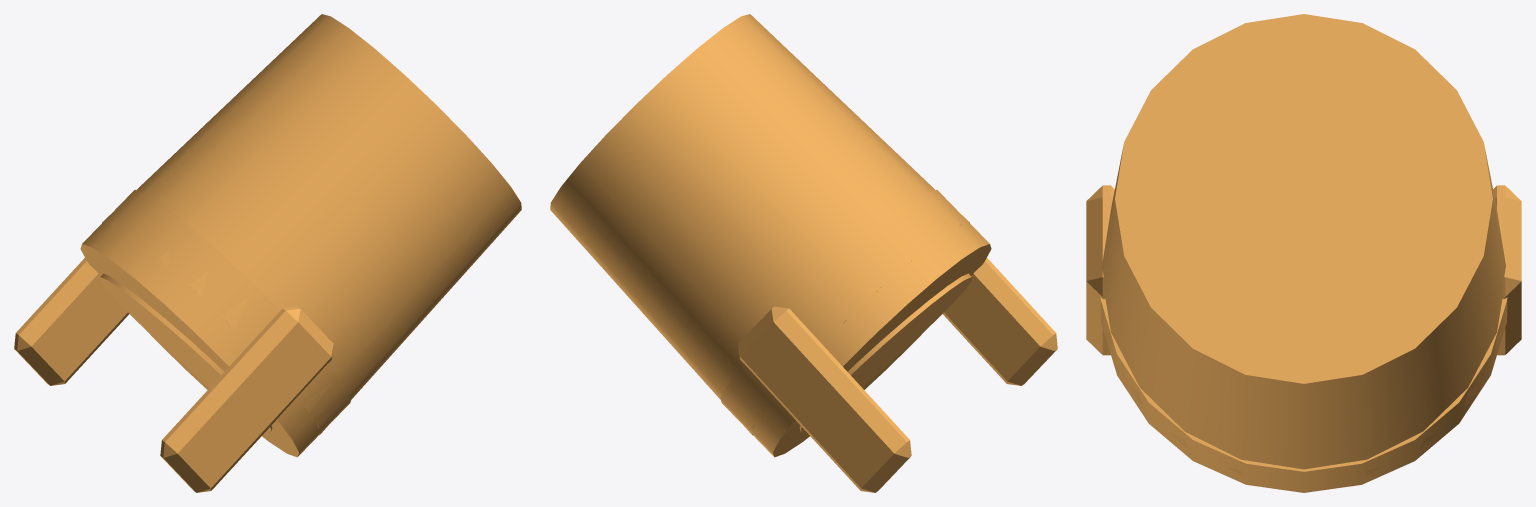
File: SM_Menu_Spotlight_02.fbx
3 renders of one model, left to right at view 1: azimuth 30°, elevation 25°; view 2: azimuth 150°, elevation 25°; view 3: azimuth 270°, elevation 25°, orthographic. The views are drawn at different scales.
Parts seen in each view (by area): view 1: SM_Menu_Spotlight_02; view 2: SM_Menu_Spotlight_02; view 3: SM_Menu_Spotlight_02.
Part boxes in pixels (box(x1,y1,x2,y2)): SM_Menu_Spotlight_02: box(14, 14, 521, 492); SM_Menu_Spotlight_02: box(550, 14, 1057, 492); SM_Menu_Spotlight_02: box(1086, 14, 1521, 492).
Size of the model in its own units: 76.94 by 53 by 71.4.
